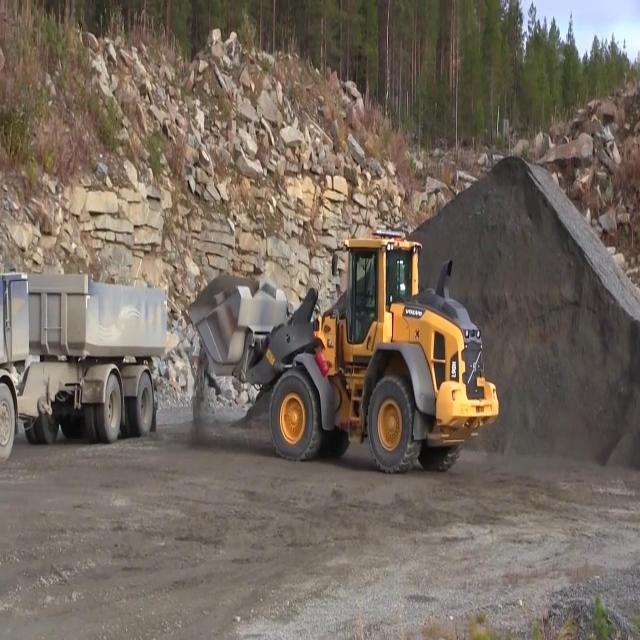buldozerpayloadergrader: (192, 198, 502, 478)
dump_truck: (0, 262, 172, 468)
